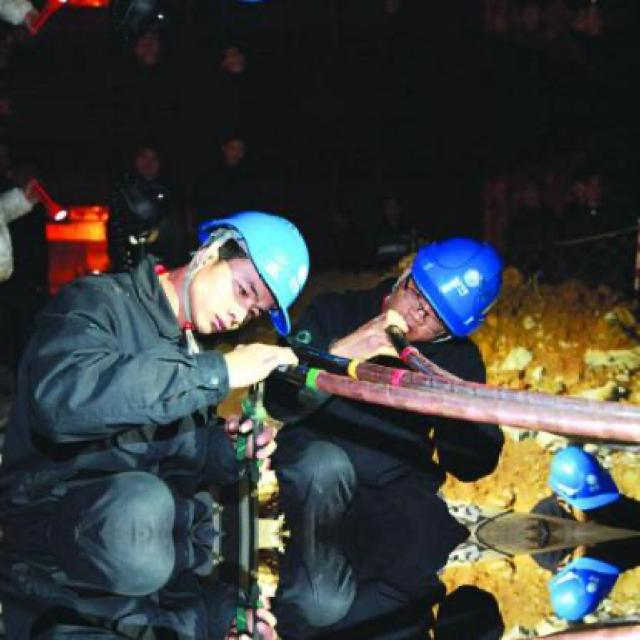con casco: (374, 216, 534, 326), (191, 203, 316, 340), (549, 442, 622, 522)
